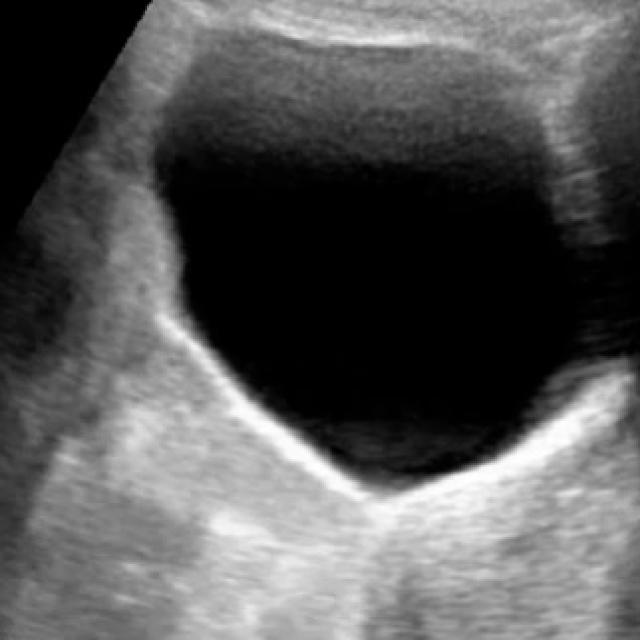bladder: (119, 15, 610, 520)
